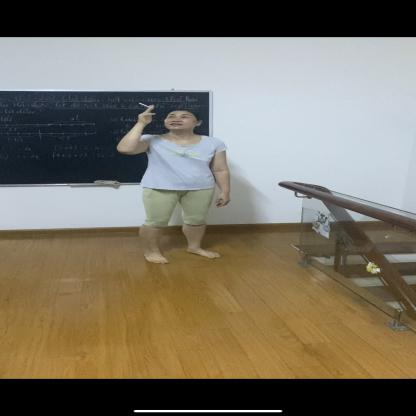cigarette: (137, 102, 151, 108)
person: (119, 102, 232, 270)
